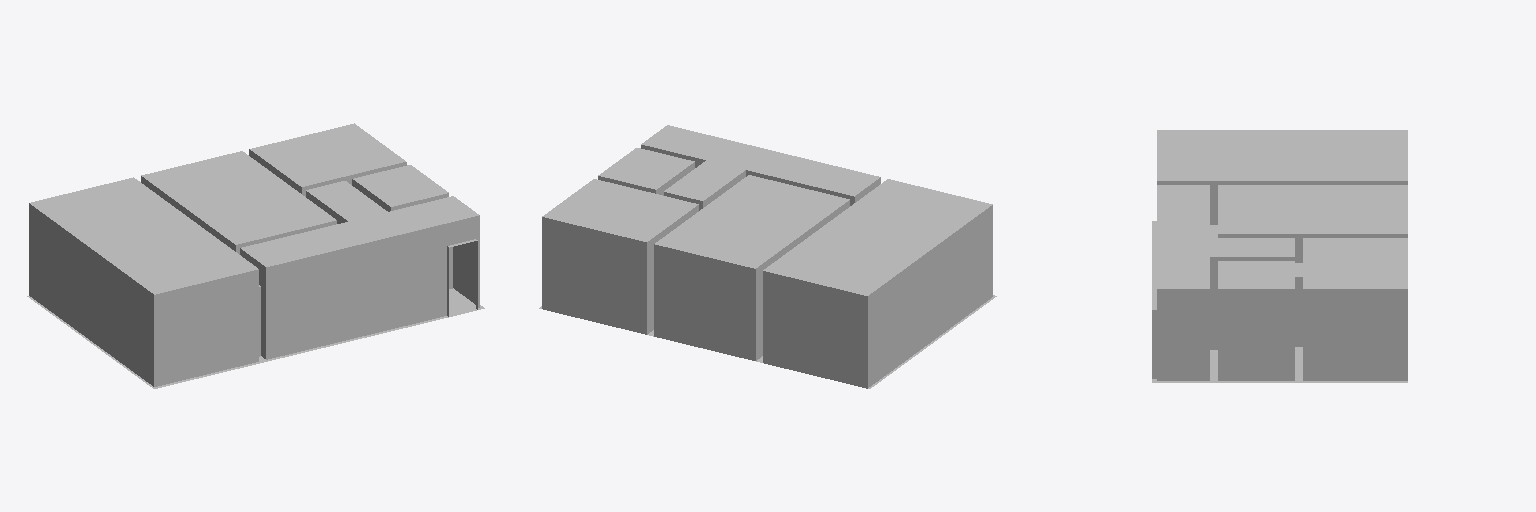
3 renders of one model, left to right at view 1: azimuth 30°, elevation 25°; view 2: azimuth 150°, elevation 25°; view 3: azimuth 270°, elevation 25°, orthographic.
Visible parts, largest first — view 1: hall_2_Plane.022, hallway_2_Plane.012, hall_3_Plane.023, kitchen_2_Plane.021, bathroom_2_Plane.024, source_floorplan3_Plane.011; view 2: hall_2_Plane.022, hall_3_Plane.023, kitchen_2_Plane.021, hallway_2_Plane.012, bathroom_2_Plane.024; view 3: kitchen_2_Plane.021, hall_2_Plane.022, hallway_2_Plane.012, hall_3_Plane.023, bathroom_2_Plane.024, source_floorplan3_Plane.011.
Boxes of the visible parts, x1=… form: hall_2_Plane.022: x1=29, y1=177, x2=260, y2=386; hallway_2_Plane.012: x1=240, y1=181, x2=479, y2=359; hall_3_Plane.023: x1=141, y1=151, x2=336, y2=254; kitchen_2_Plane.021: x1=249, y1=123, x2=406, y2=196; bathroom_2_Plane.024: x1=352, y1=165, x2=448, y2=211; source_floorplan3_Plane.011: x1=27, y1=288, x2=484, y2=388; hall_2_Plane.022: x1=763, y1=179, x2=992, y2=388; hall_3_Plane.023: x1=654, y1=175, x2=849, y2=360; kitchen_2_Plane.021: x1=542, y1=179, x2=698, y2=334; hallway_2_Plane.012: x1=641, y1=125, x2=880, y2=210; bathroom_2_Plane.024: x1=598, y1=148, x2=694, y2=195; kitchen_2_Plane.021: x1=1295, y1=238, x2=1407, y2=380; hall_2_Plane.022: x1=1157, y1=130, x2=1407, y2=224; hallway_2_Plane.012: x1=1152, y1=185, x2=1294, y2=380; hall_3_Plane.023: x1=1210, y1=185, x2=1407, y2=262; bathroom_2_Plane.024: x1=1218, y1=261, x2=1294, y2=380; source_floorplan3_Plane.011: x1=1152, y1=221, x2=1407, y2=382.
Bounding box in the file's own units: 15 × 4 × 10.